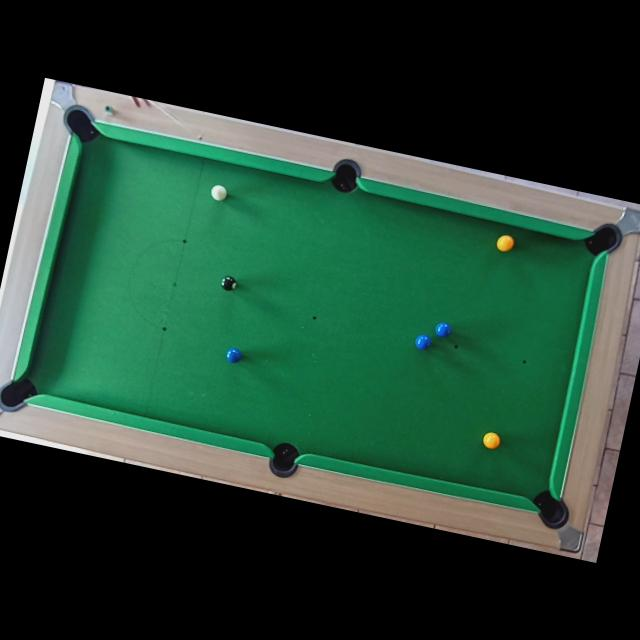Ball: (494, 232, 516, 254), (481, 430, 502, 451), (412, 332, 432, 352), (209, 182, 228, 202), (432, 320, 451, 339), (218, 274, 238, 292), (224, 347, 244, 365)
